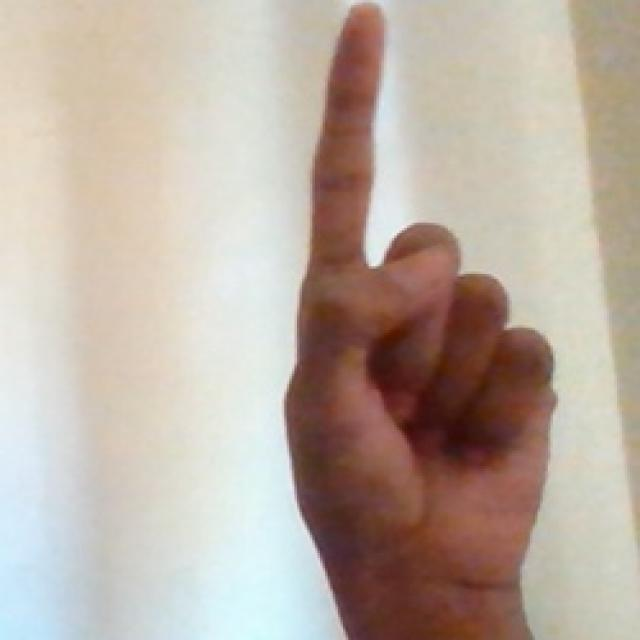Numeric-1: (291, 5, 555, 609)
